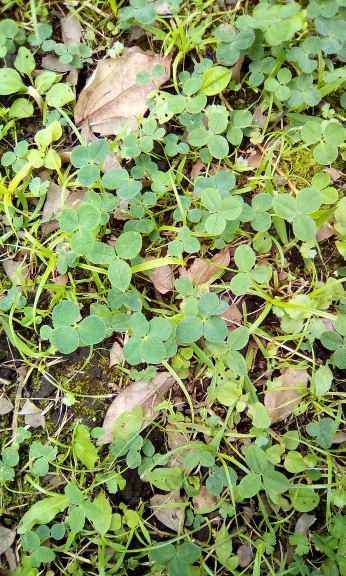4leaf: (122, 312, 172, 365)
